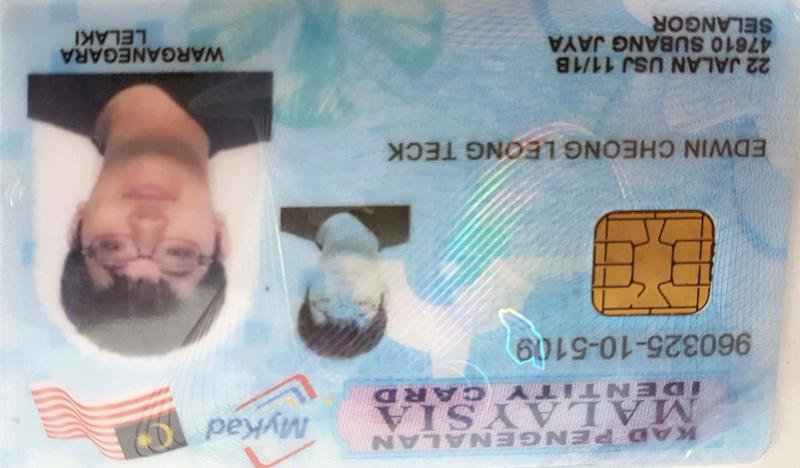hologram: (412, 166, 568, 307)
